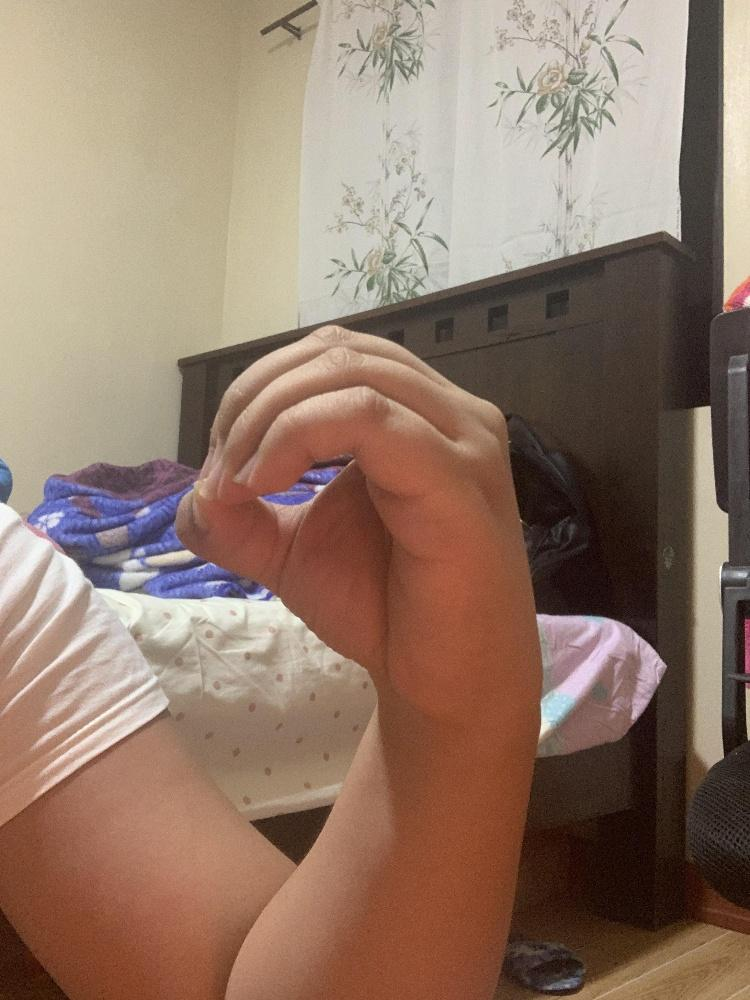o: (175, 321, 544, 706)
